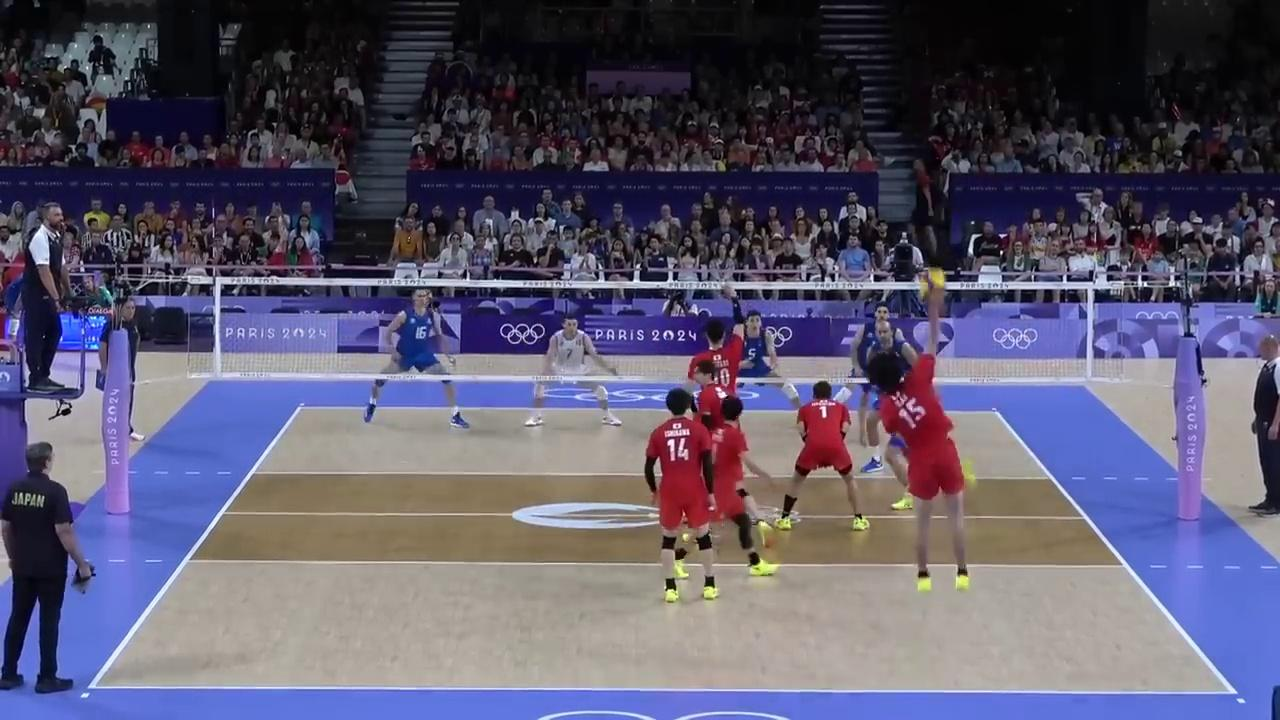ball: (917, 267, 944, 294)
